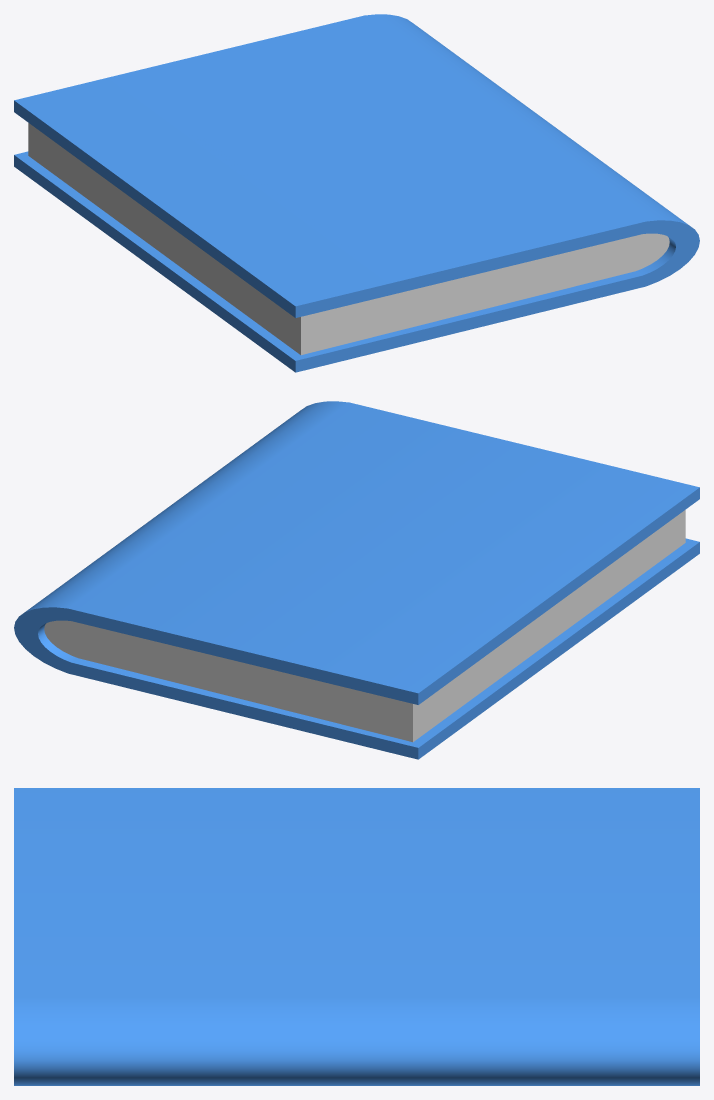
Rendered from Libro.030.glb.
The picture shows the model from 3 angles, top to bottom: view 1: azimuth 30°, elevation 25°; view 2: azimuth 150°, elevation 25°; view 3: azimuth 270°, elevation 25°; orthographic projection. The views are drawn at different scales.
Visible parts, largest first — view 1: Caballete_Libro.030; view 2: Caballete_Libro.030; view 3: Caballete_Libro.030.
Part boxes in pixels (x1,y1,x2,y2): Caballete_Libro.030: (14, 14, 699, 372); Caballete_Libro.030: (14, 401, 699, 759); Caballete_Libro.030: (14, 788, 699, 1085).
Size of the model in its own units: 0.2625 by 0.0411 by 0.3165.
